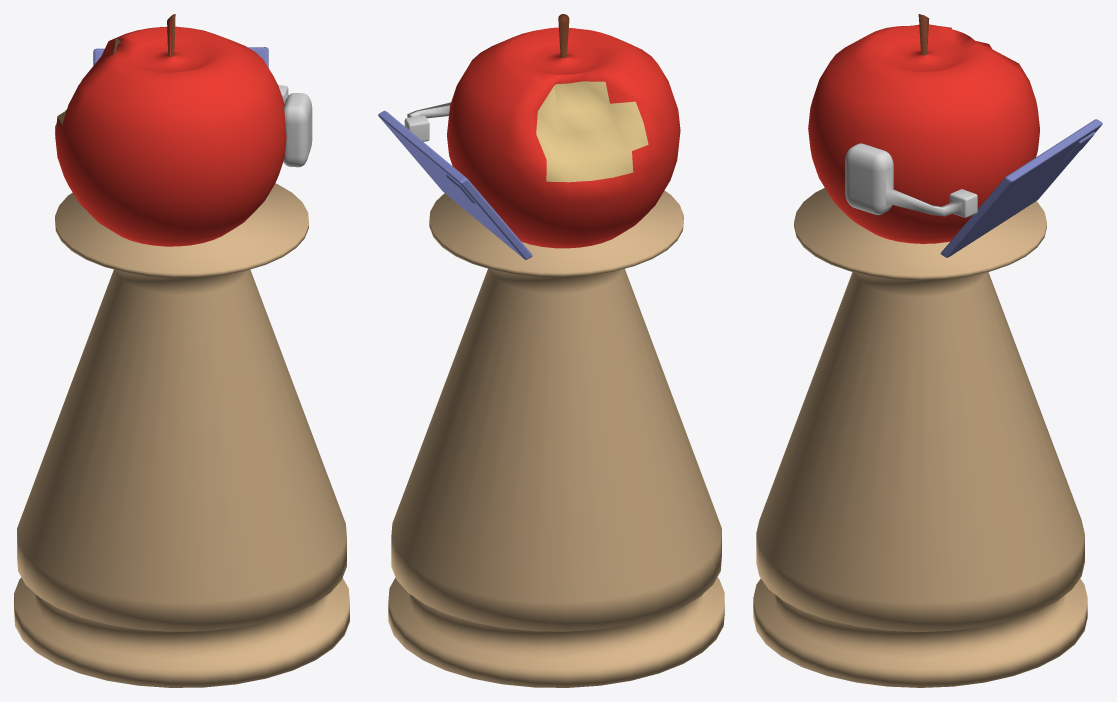
Rendered from Manager_bishop-chess.glb.
The picture shows the model from 3 angles, left to right: view 1: azimuth 30°, elevation 25°; view 2: azimuth 150°, elevation 25°; view 3: azimuth 270°, elevation 25°; orthographic projection.
Visible parts, largest first — view 1: Cylinder, Sphere.006, Cube.045; view 2: Cylinder, Sphere.006, Cube.046, Cube.045; view 3: Cylinder, Sphere.006, Cube.046, Cube.045.
Boxes of the visible parts, x1,y1,x2,y2 form: Cylinder: [14, 183, 349, 687]; Sphere.006: [55, 14, 286, 246]; Cube.045: [278, 85, 312, 167]; Cylinder: [388, 190, 724, 687]; Sphere.006: [447, 14, 680, 248]; Cube.046: [378, 110, 532, 259]; Cube.045: [404, 102, 450, 141]; Cylinder: [753, 188, 1087, 687]; Sphere.006: [808, 14, 1039, 243]; Cube.046: [940, 119, 1102, 257]; Cube.045: [845, 143, 977, 217].
Size of the model in its own units: 2 by 3.96 by 2.09.
